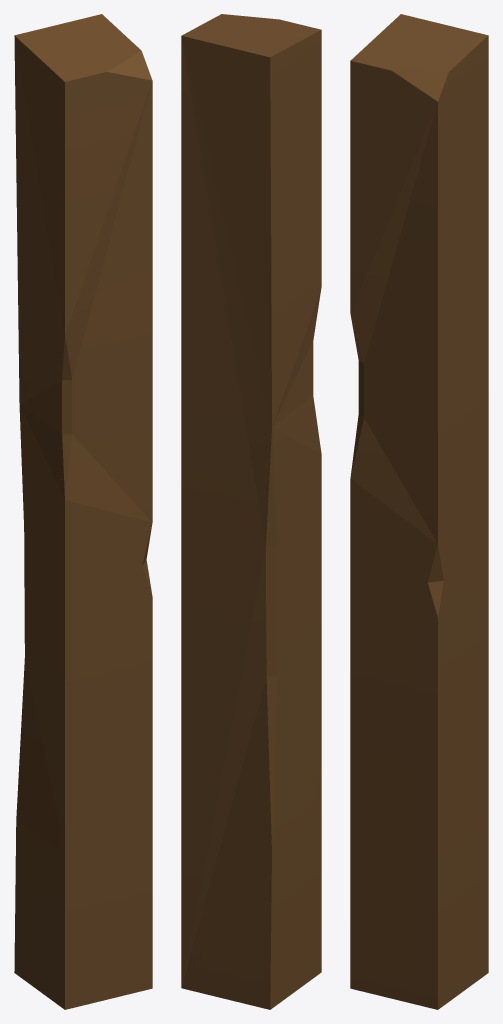
Rendered from Bld_01_Fence_Wood_Pole_Worned_01.obj.
3 renders of one model, left to right at view 1: azimuth 30°, elevation 25°; view 2: azimuth 150°, elevation 25°; view 3: azimuth 330°, elevation 25°, orthographic.
Visible parts, largest first — view 1: Bld_01_Fence_Wood_Pole_Worned_01; view 2: Bld_01_Fence_Wood_Pole_Worned_01; view 3: Bld_01_Fence_Wood_Pole_Worned_01.
Part boxes in pixels (x1,y1,x2,y2): Bld_01_Fence_Wood_Pole_Worned_01: (14, 14, 152, 1009); Bld_01_Fence_Wood_Pole_Worned_01: (181, 14, 321, 1009); Bld_01_Fence_Wood_Pole_Worned_01: (350, 14, 488, 1009).
Size of the model in its own units: 0.1153 by 1.18 by 0.1153.
Materials: 1 (1 with a texture image).
